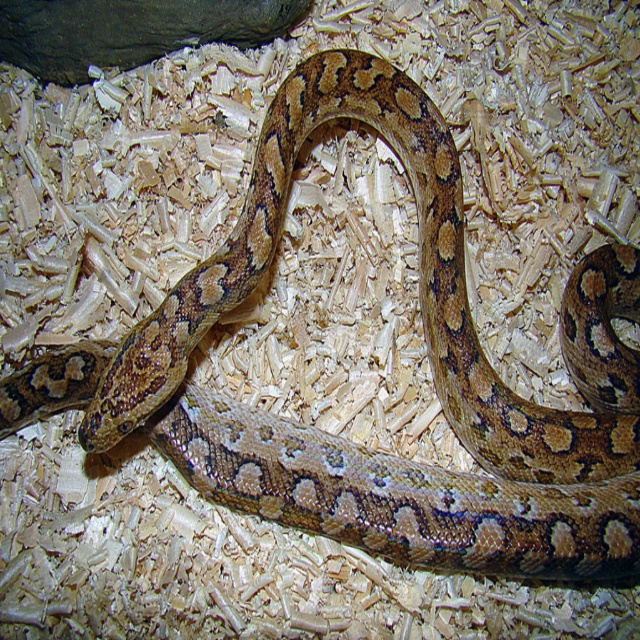Snake: (0, 47, 639, 584)
